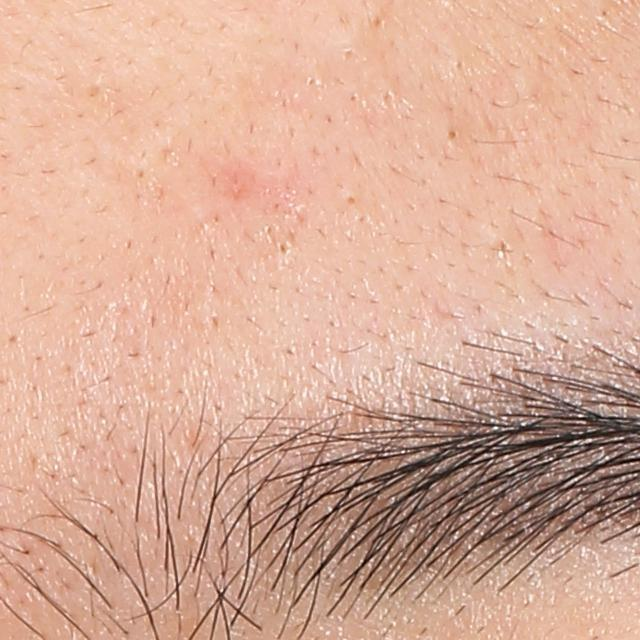comedo: (272, 234, 295, 262), (368, 12, 391, 33)
